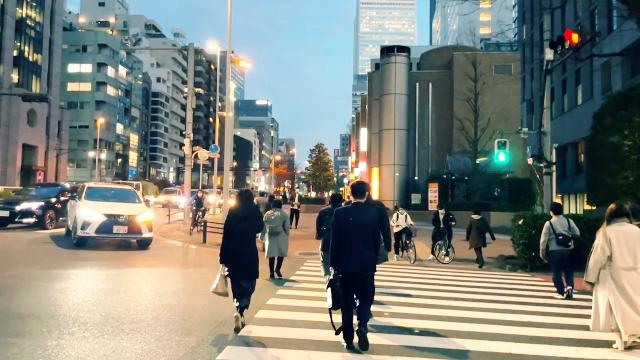berjalan: (329, 182, 395, 351), (586, 200, 640, 360), (219, 185, 269, 330), (531, 197, 579, 302)
